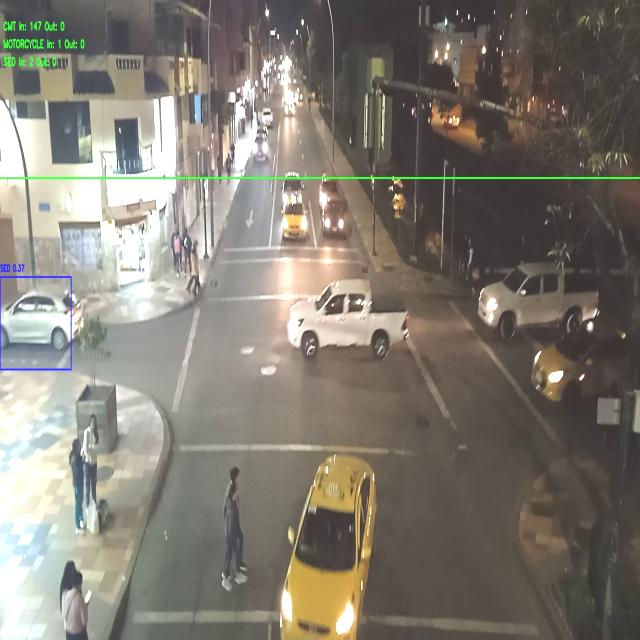CMT: (290, 279, 408, 351), (479, 263, 596, 328)
SED: (281, 455, 376, 636), (532, 332, 628, 396), (0, 290, 85, 347), (282, 206, 306, 238), (324, 203, 345, 237)
SUV: (253, 139, 269, 159), (262, 108, 273, 126)
